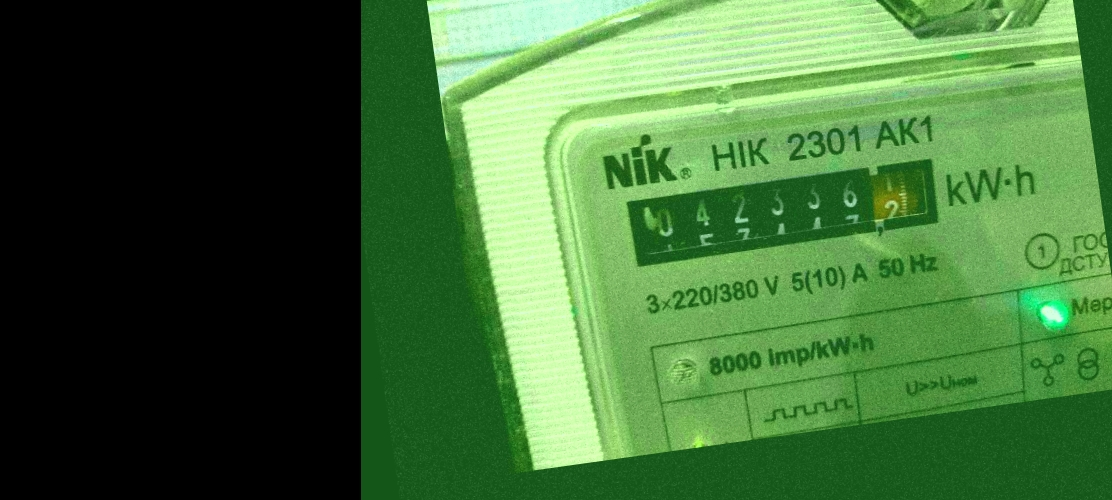0: (652, 204, 676, 240)
1: (879, 167, 895, 195)
2: (727, 189, 753, 226), (881, 198, 900, 221)
3: (802, 178, 824, 213), (764, 184, 786, 218)
4: (691, 195, 713, 229)
6: (837, 175, 862, 212)
screen: (612, 143, 956, 279)
